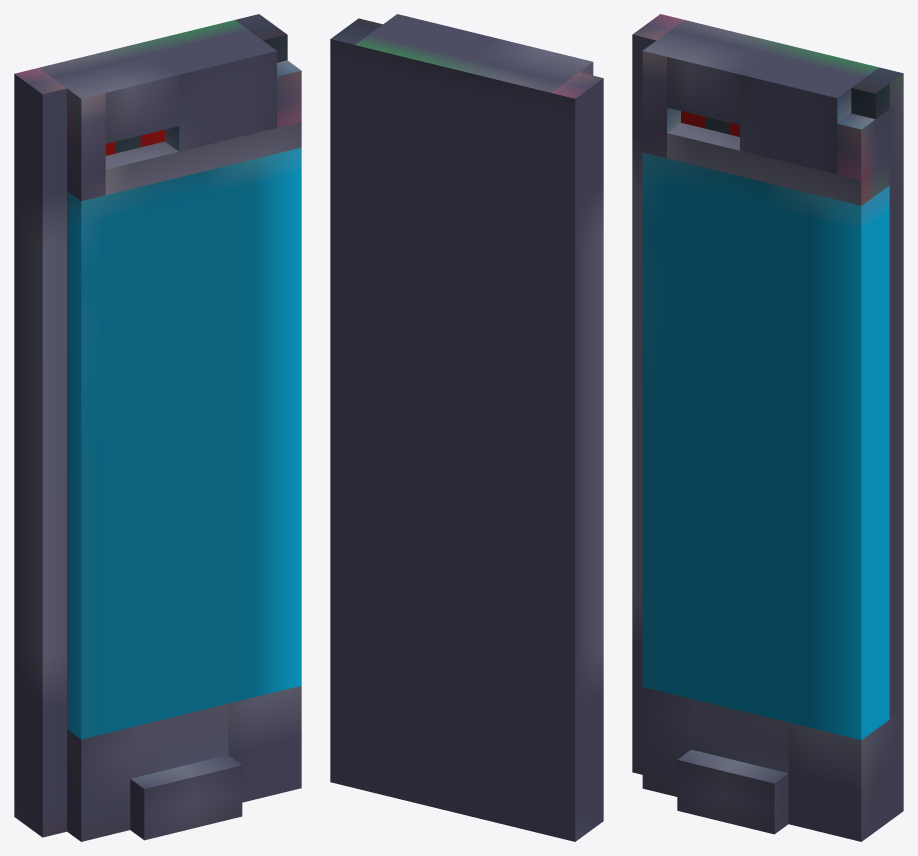
Rendered from Screen_C_00.fbx.
3 renders of one model, left to right at view 1: azimuth 30°, elevation 25°; view 2: azimuth 150°, elevation 25°; view 3: azimuth 330°, elevation 25°, orthographic.
Visible parts, largest first — view 1: Screen_C_00; view 2: Screen_C_00; view 3: Screen_C_00.
Boxes of the visible parts, <box> form: Screen_C_00: <box>14,14,301,841</box>; Screen_C_00: <box>330,14,603,841</box>; Screen_C_00: <box>632,14,903,841</box>.
Bounding box in the file's own units: 50 × 145 × 20.
